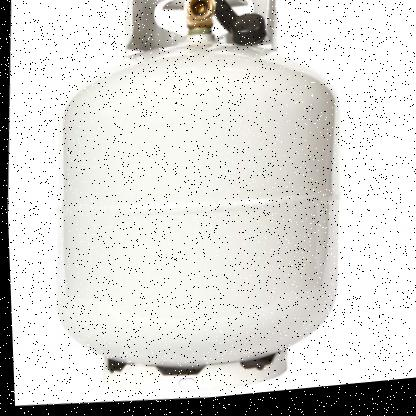gas-tank: (35, 0, 371, 412)
